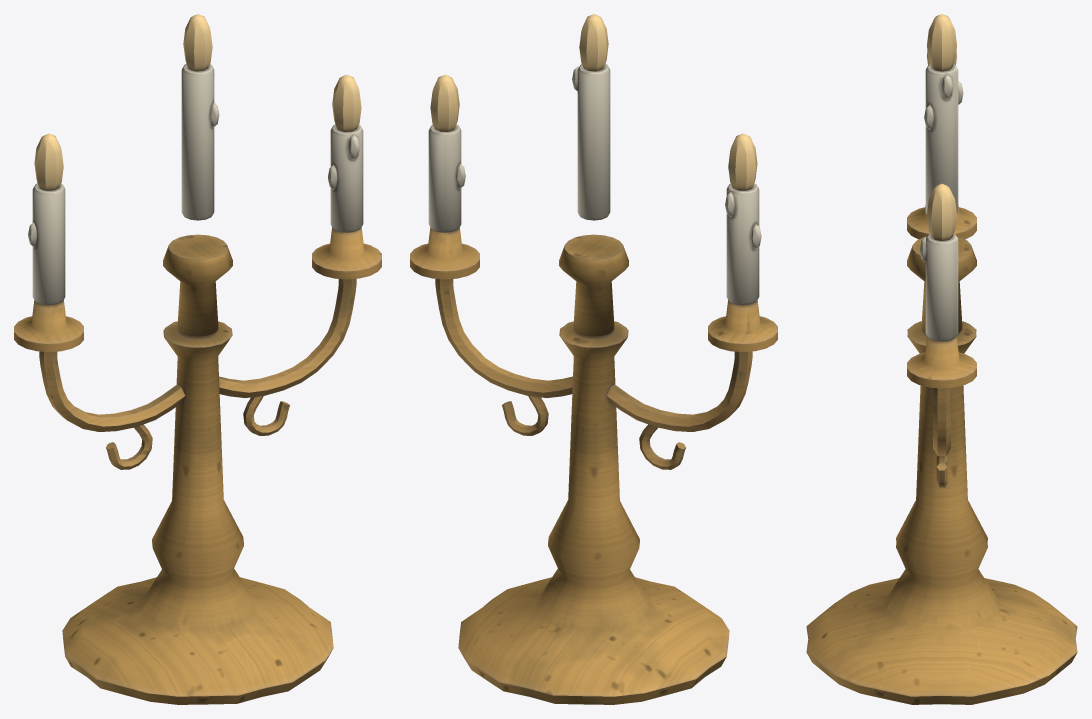
The model's file is LibCandelabra.fbx.
The picture shows the model from 3 angles, left to right: view 1: azimuth 30°, elevation 25°; view 2: azimuth 150°, elevation 25°; view 3: azimuth 270°, elevation 25°; orthographic projection.
Visible parts, largest first — view 1: LibCandelabra_Main, LibCandelabra_Glow; view 2: LibCandelabra_Main, LibCandelabra_Glow; view 3: LibCandelabra_Main, LibCandelabra_Glow.
Boxes of the visible parts, left/top/right/bottom form: LibCandelabra_Main: left=14, top=64, right=381, bottom=704; LibCandelabra_Glow: left=34, top=14, right=361, bottom=190; LibCandelabra_Main: left=410, top=64, right=777, bottom=704; LibCandelabra_Glow: left=430, top=14, right=757, bottom=190; LibCandelabra_Main: left=806, top=64, right=1077, bottom=704; LibCandelabra_Glow: left=927, top=14, right=956, bottom=240.
Size of the model in its own units: 140 by 237 by 91.46.
